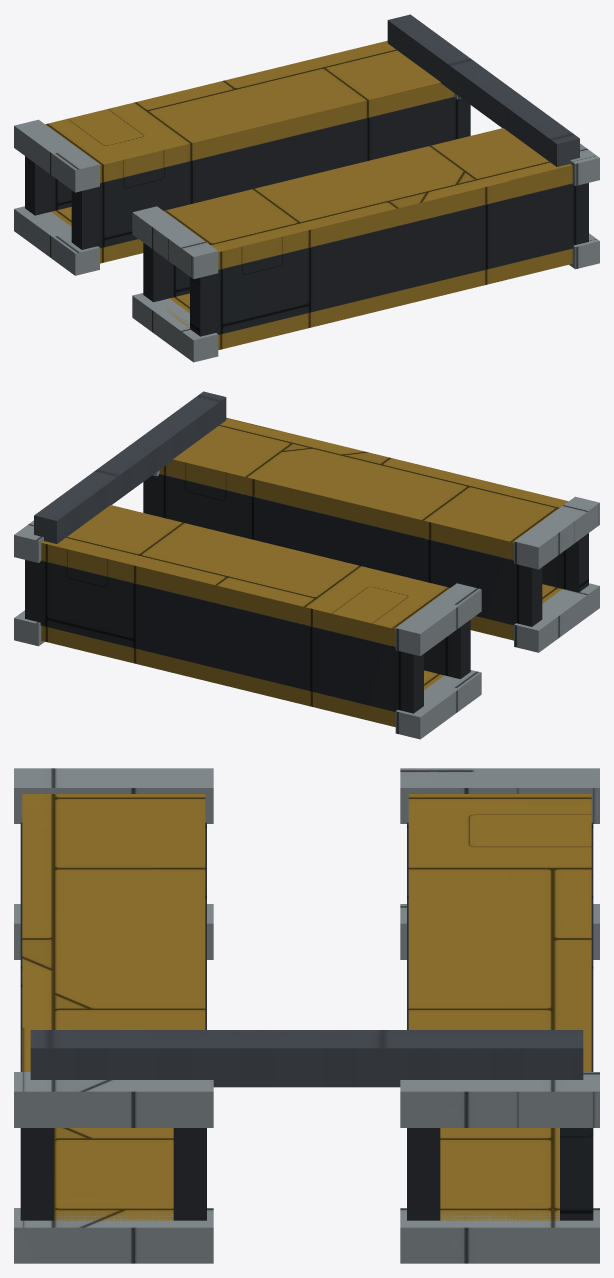
Rendered from cargo-fork-receiver_lod2.glb.
3 renders of one model, top to bottom at view 1: azimuth 30°, elevation 25°; view 2: azimuth 150°, elevation 25°; view 3: azimuth 270°, elevation 25°, orthographic. The views are drawn at different scales.
Parts seen in each view (by area): view 1: LOD2_Livery, LOD2_Armor, LOD2_BrushedMetal, LOD2_Mechanical; view 2: LOD2_Livery, LOD2_Armor, LOD2_BrushedMetal, LOD2_Mechanical; view 3: LOD2_Livery, LOD2_BrushedMetal, LOD2_Mechanical, LOD2_Armor.
Boxes of the visible parts, x1,y1,x2,y2 form: LOD2_Livery: (45,40,572,349); LOD2_Armor: (25,97,588,336); LOD2_BrushedMetal: (14,93,599,362); LOD2_Mechanical: (387,14,579,166); LOD2_Livery: (41,417,568,726); LOD2_Armor: (25,474,588,713); LOD2_BrushedMetal: (14,470,599,739); LOD2_Mechanical: (34,391,226,543); LOD2_Livery: (22,794,591,1220); LOD2_BrushedMetal: (14,768,599,1263); LOD2_Mechanical: (30,1030,583,1087); LOD2_Armor: (20,822,593,1220).
Bounding box in the file's own units: 2.3 × 0.675 × 1.76.
Materials: 4 (4 with a texture image).
